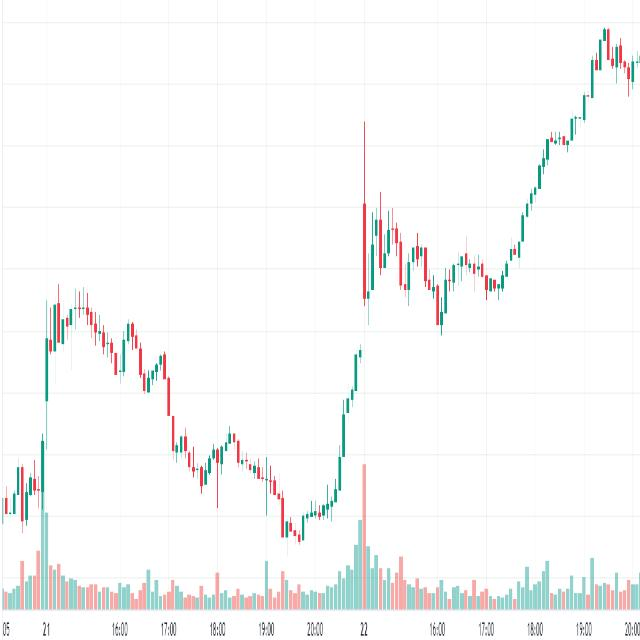Descending-Triangle: (32, 232, 230, 418)
Double-Top: (118, 310, 178, 468)
Triangle: (353, 188, 548, 356)
